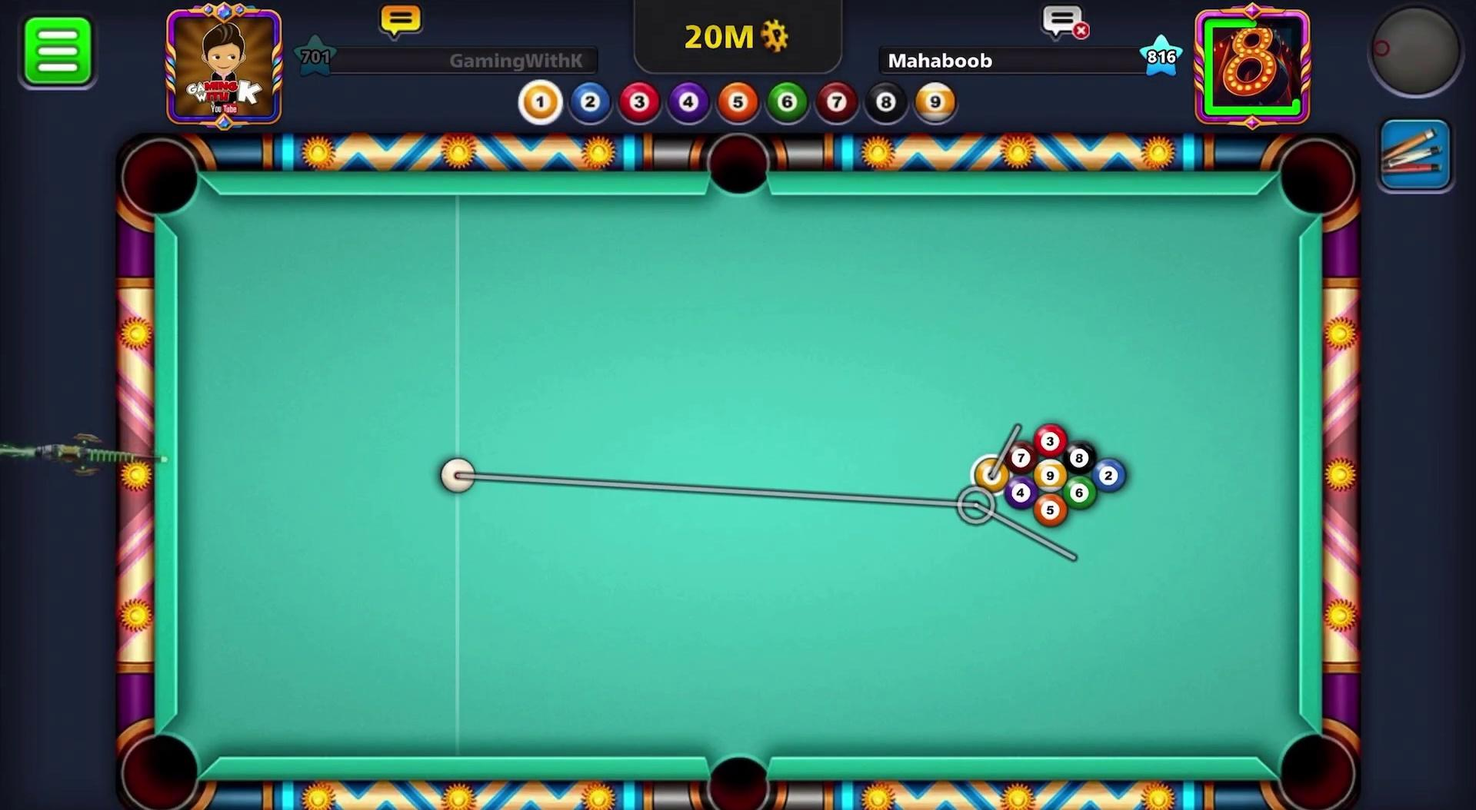Ball: (969, 451, 1014, 502), (1029, 457, 1069, 495), (1061, 474, 1100, 512), (1030, 422, 1069, 459), (1001, 474, 1041, 510), (1091, 457, 1128, 494), (1032, 491, 1068, 529), (1061, 440, 1096, 475), (1001, 440, 1036, 474)
Guideline: (455, 420, 1087, 569)
Hole: (107, 129, 212, 230), (1270, 132, 1363, 228), (1267, 717, 1364, 809), (111, 724, 208, 809), (685, 736, 785, 809), (701, 124, 776, 204)
Play_Area: (178, 194, 1298, 759)
Spin: (1351, 0, 1475, 114)
White: (431, 453, 477, 500)
